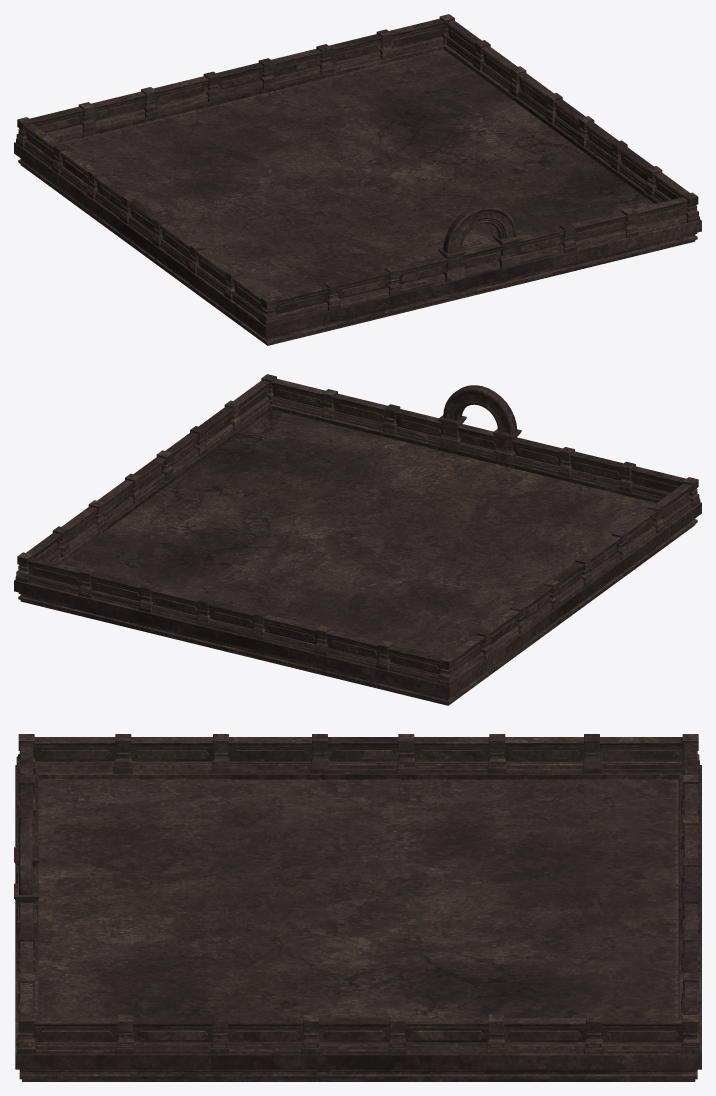
The model's file is SK2 ROOF SMALL.fbx.
3 renders of one model, top to bottom at view 1: azimuth 30°, elevation 25°; view 2: azimuth 150°, elevation 25°; view 3: azimuth 270°, elevation 25°, orthographic. The views are drawn at different scales.
Parts seen in each view (by area): view 1: SK2 ROOF SMALL.001; view 2: SK2 ROOF SMALL.001; view 3: SK2 ROOF SMALL.001.
Part boxes in pixels (left/top/right/bottom): SK2 ROOF SMALL.001: left=14, top=14, right=701, bottom=345; SK2 ROOF SMALL.001: left=14, top=374, right=701, bottom=705; SK2 ROOF SMALL.001: left=14, top=734, right=701, bottom=1081.
Bounding box in the file's own units: 1272 × 241 × 1275.
